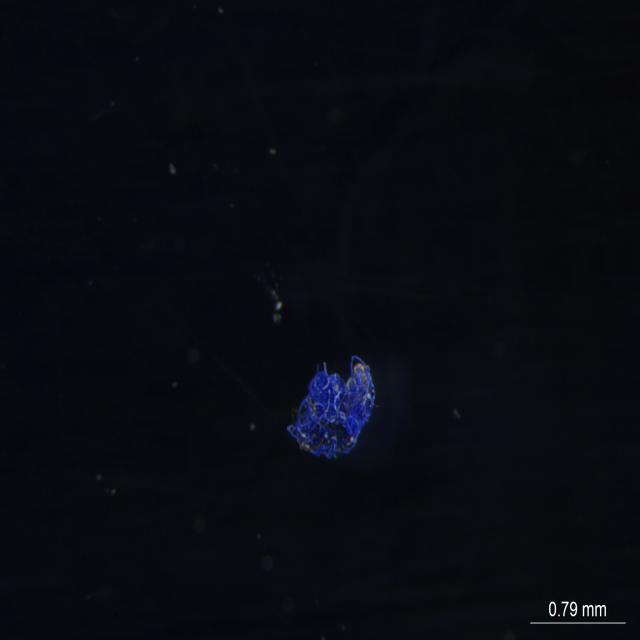fragments: (282, 344, 393, 472)
